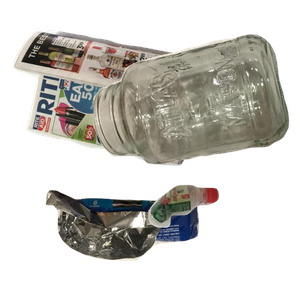glass: (91, 32, 300, 189)
paper: (11, 27, 213, 185)
plastic: (146, 182, 300, 300)
trash: (43, 187, 234, 300)
